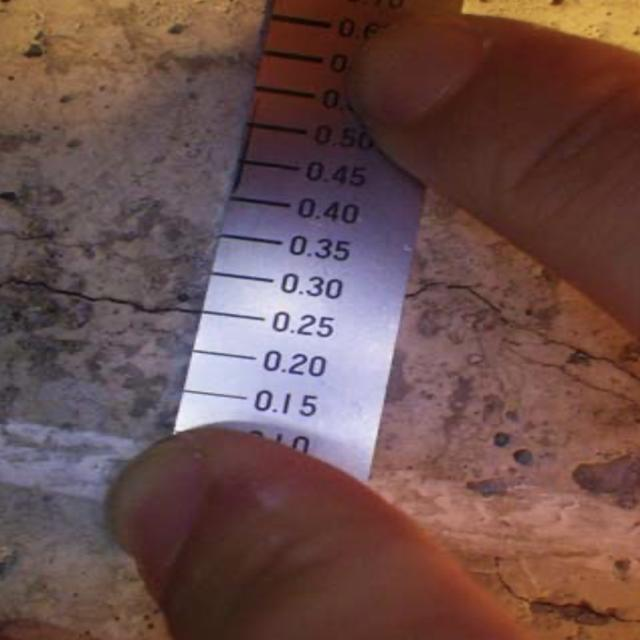crack: (415, 264, 640, 412), (6, 266, 216, 344)
